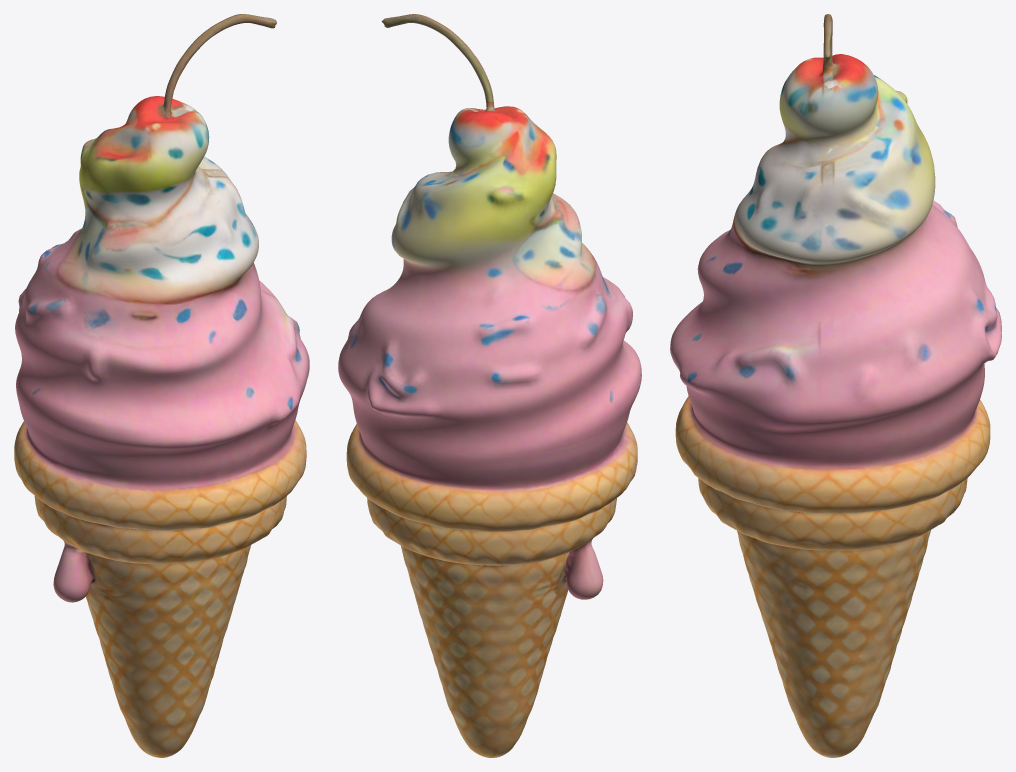
3 views of the same model, side by side, from view 1: azimuth 30°, elevation 25°; view 2: azimuth 150°, elevation 25°; view 3: azimuth 270°, elevation 25° (orthographic). The views are drawn at different scales.
Visible parts, largest first — view 1: Mesh1_Mesh1.006; view 2: Mesh1_Mesh1.006; view 3: Mesh1_Mesh1.006.
Boxes of the visible parts, x1,y1,x2,y2 form: Mesh1_Mesh1.006: [14, 14, 309, 757]; Mesh1_Mesh1.006: [338, 14, 641, 757]; Mesh1_Mesh1.006: [670, 14, 1001, 757].
Bounding box in the file's own units: 0.6548 × 1.74 × 0.6755.
Materials: 1 (1 with a texture image).
